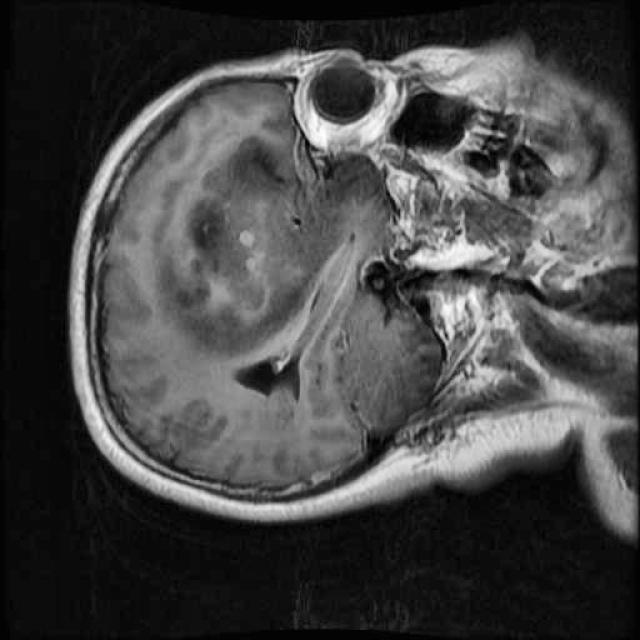Tumor: (132, 114, 359, 351)
